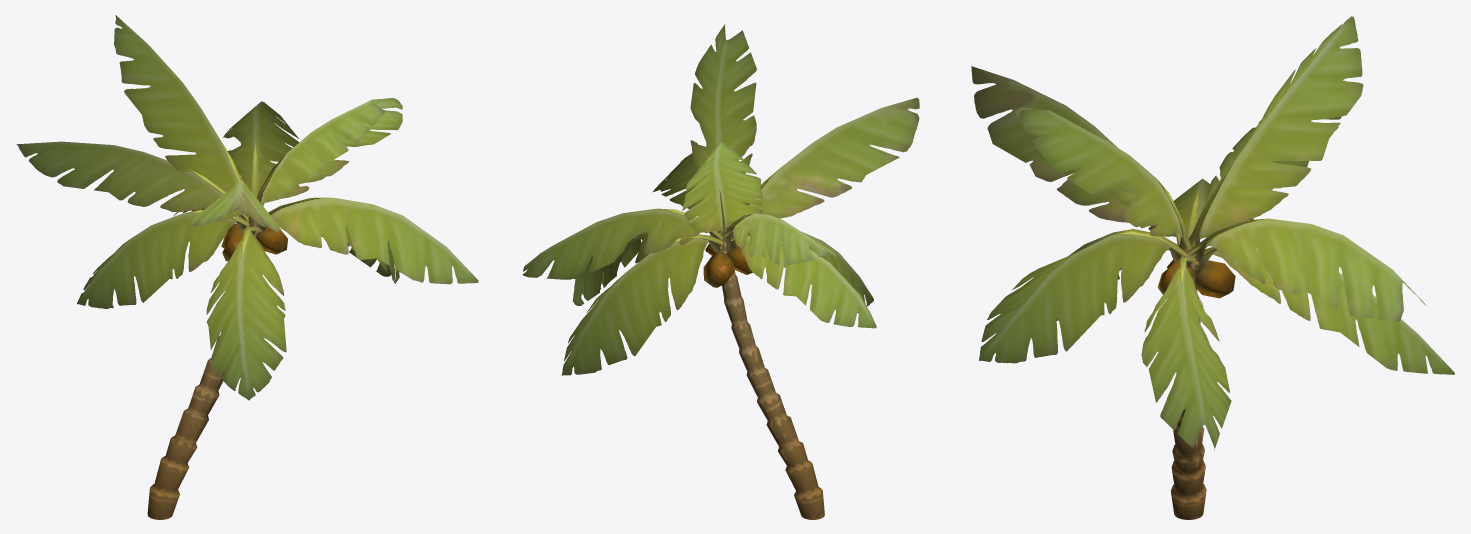
File: coconut palm 03_lod2.obj
3 renders of one model, left to right at view 1: azimuth 30°, elevation 25°; view 2: azimuth 150°, elevation 25°; view 3: azimuth 270°, elevation 25°, orthographic. The views are drawn at different scales.
Visible parts, largest first — view 1: tree; view 2: tree; view 3: tree.
Part boxes in pixels (x1,y1,x2,y2): tree: [16, 15, 478, 519]; tree: [522, 24, 919, 519]; tree: [971, 16, 1454, 519].
Bounding box in the file's own units: 369 × 464 × 407.
